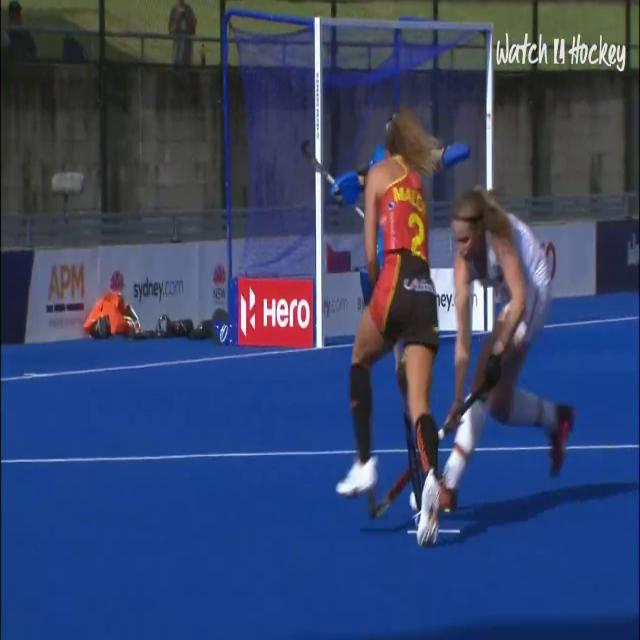ball: (402, 461, 428, 522)
